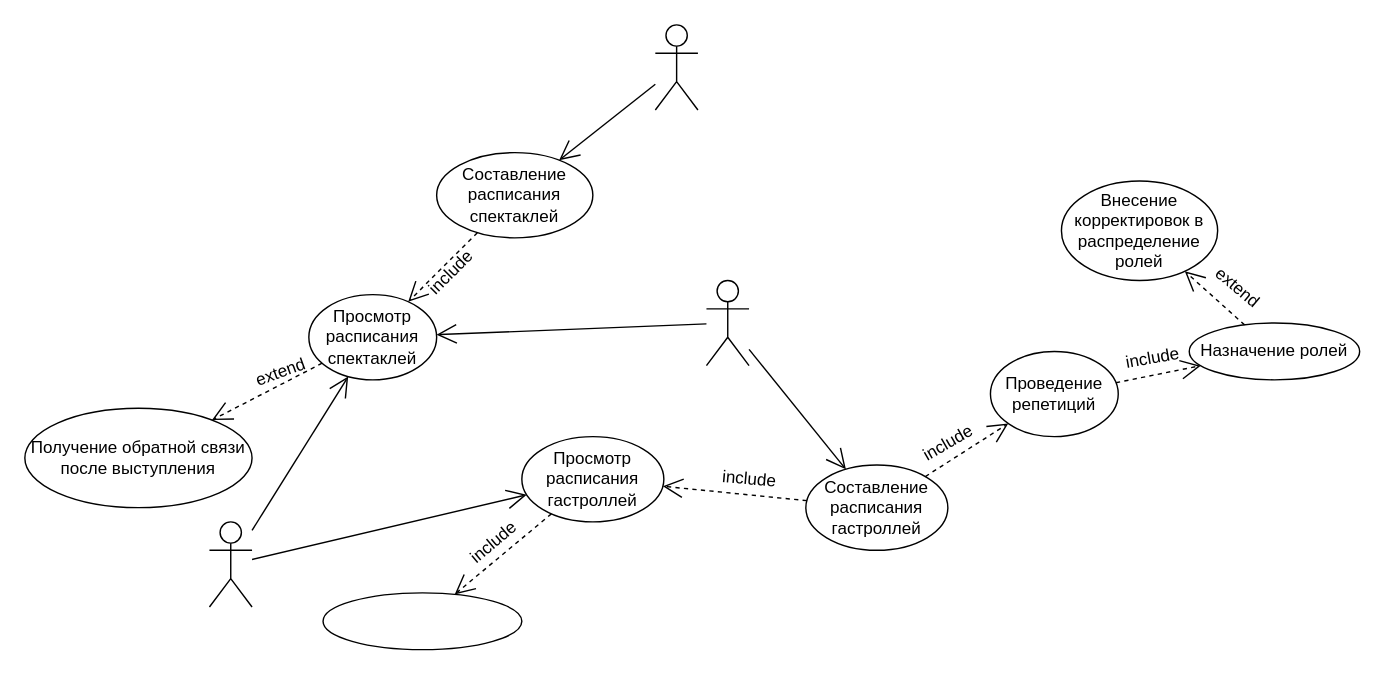
Image size: 1385x675. Some labels were removed from this diagram. Each missing label, with the centre of its shape:
Администратор: point 676,66
Актеры: point 230,563
Запись на гастроллей: point 422,620
Режиссер: point 727,322
